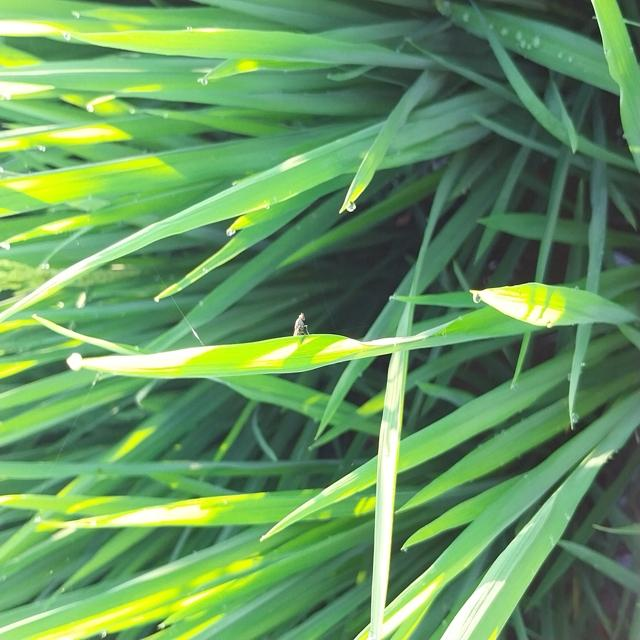healthy: (283, 308, 317, 345)
